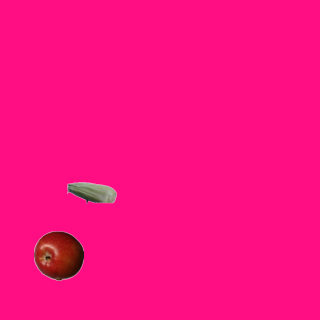Apple Braeburn: (33, 230, 83, 280)
Corn Husk: (66, 167, 116, 217)
